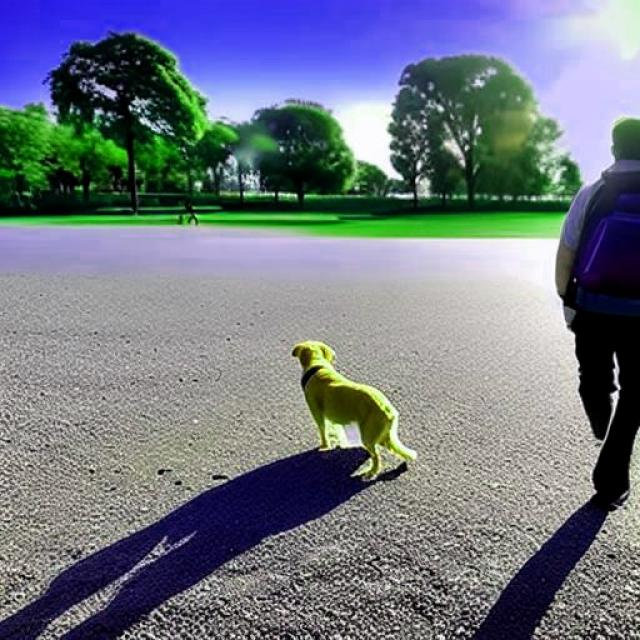Unleashed_Dog: (290, 304, 636, 482)
